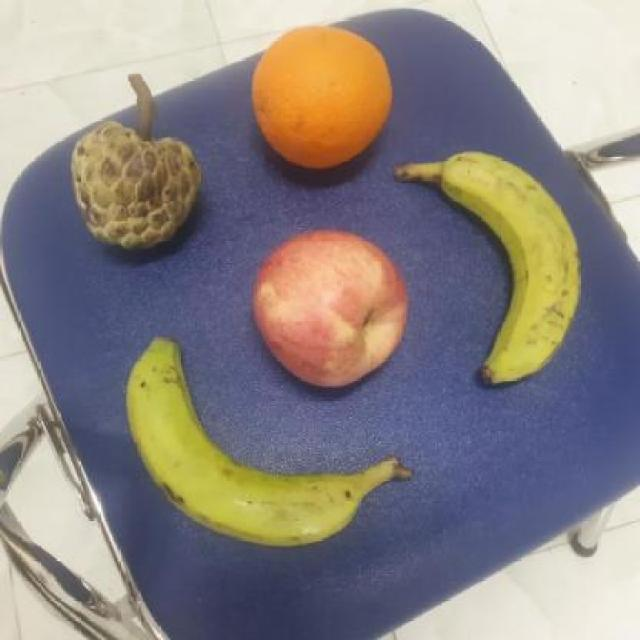apple: (243, 224, 429, 401)
banana: (124, 333, 416, 544), (386, 148, 596, 400)
oren: (248, 22, 402, 166)
sugar apple: (66, 117, 214, 255)
